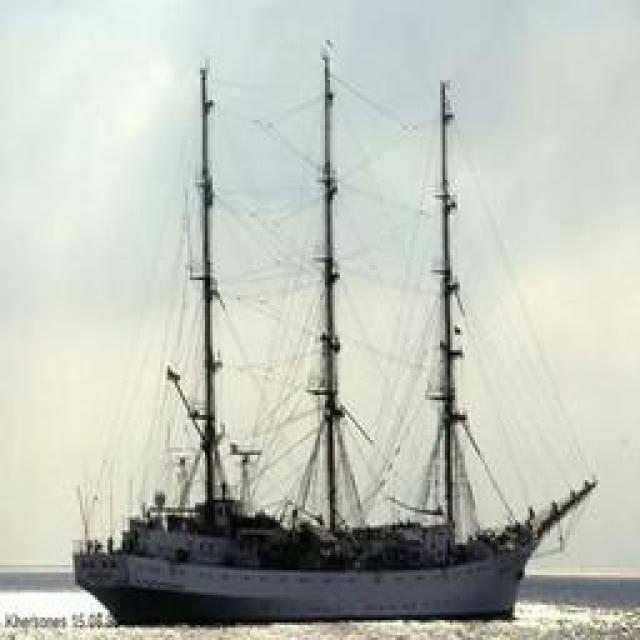Ship: (55, 28, 610, 626)
